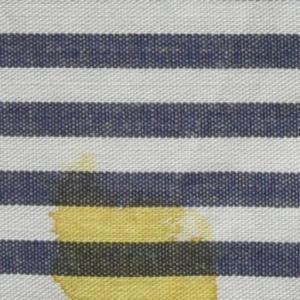Oil Stain: (45, 146, 225, 300)
